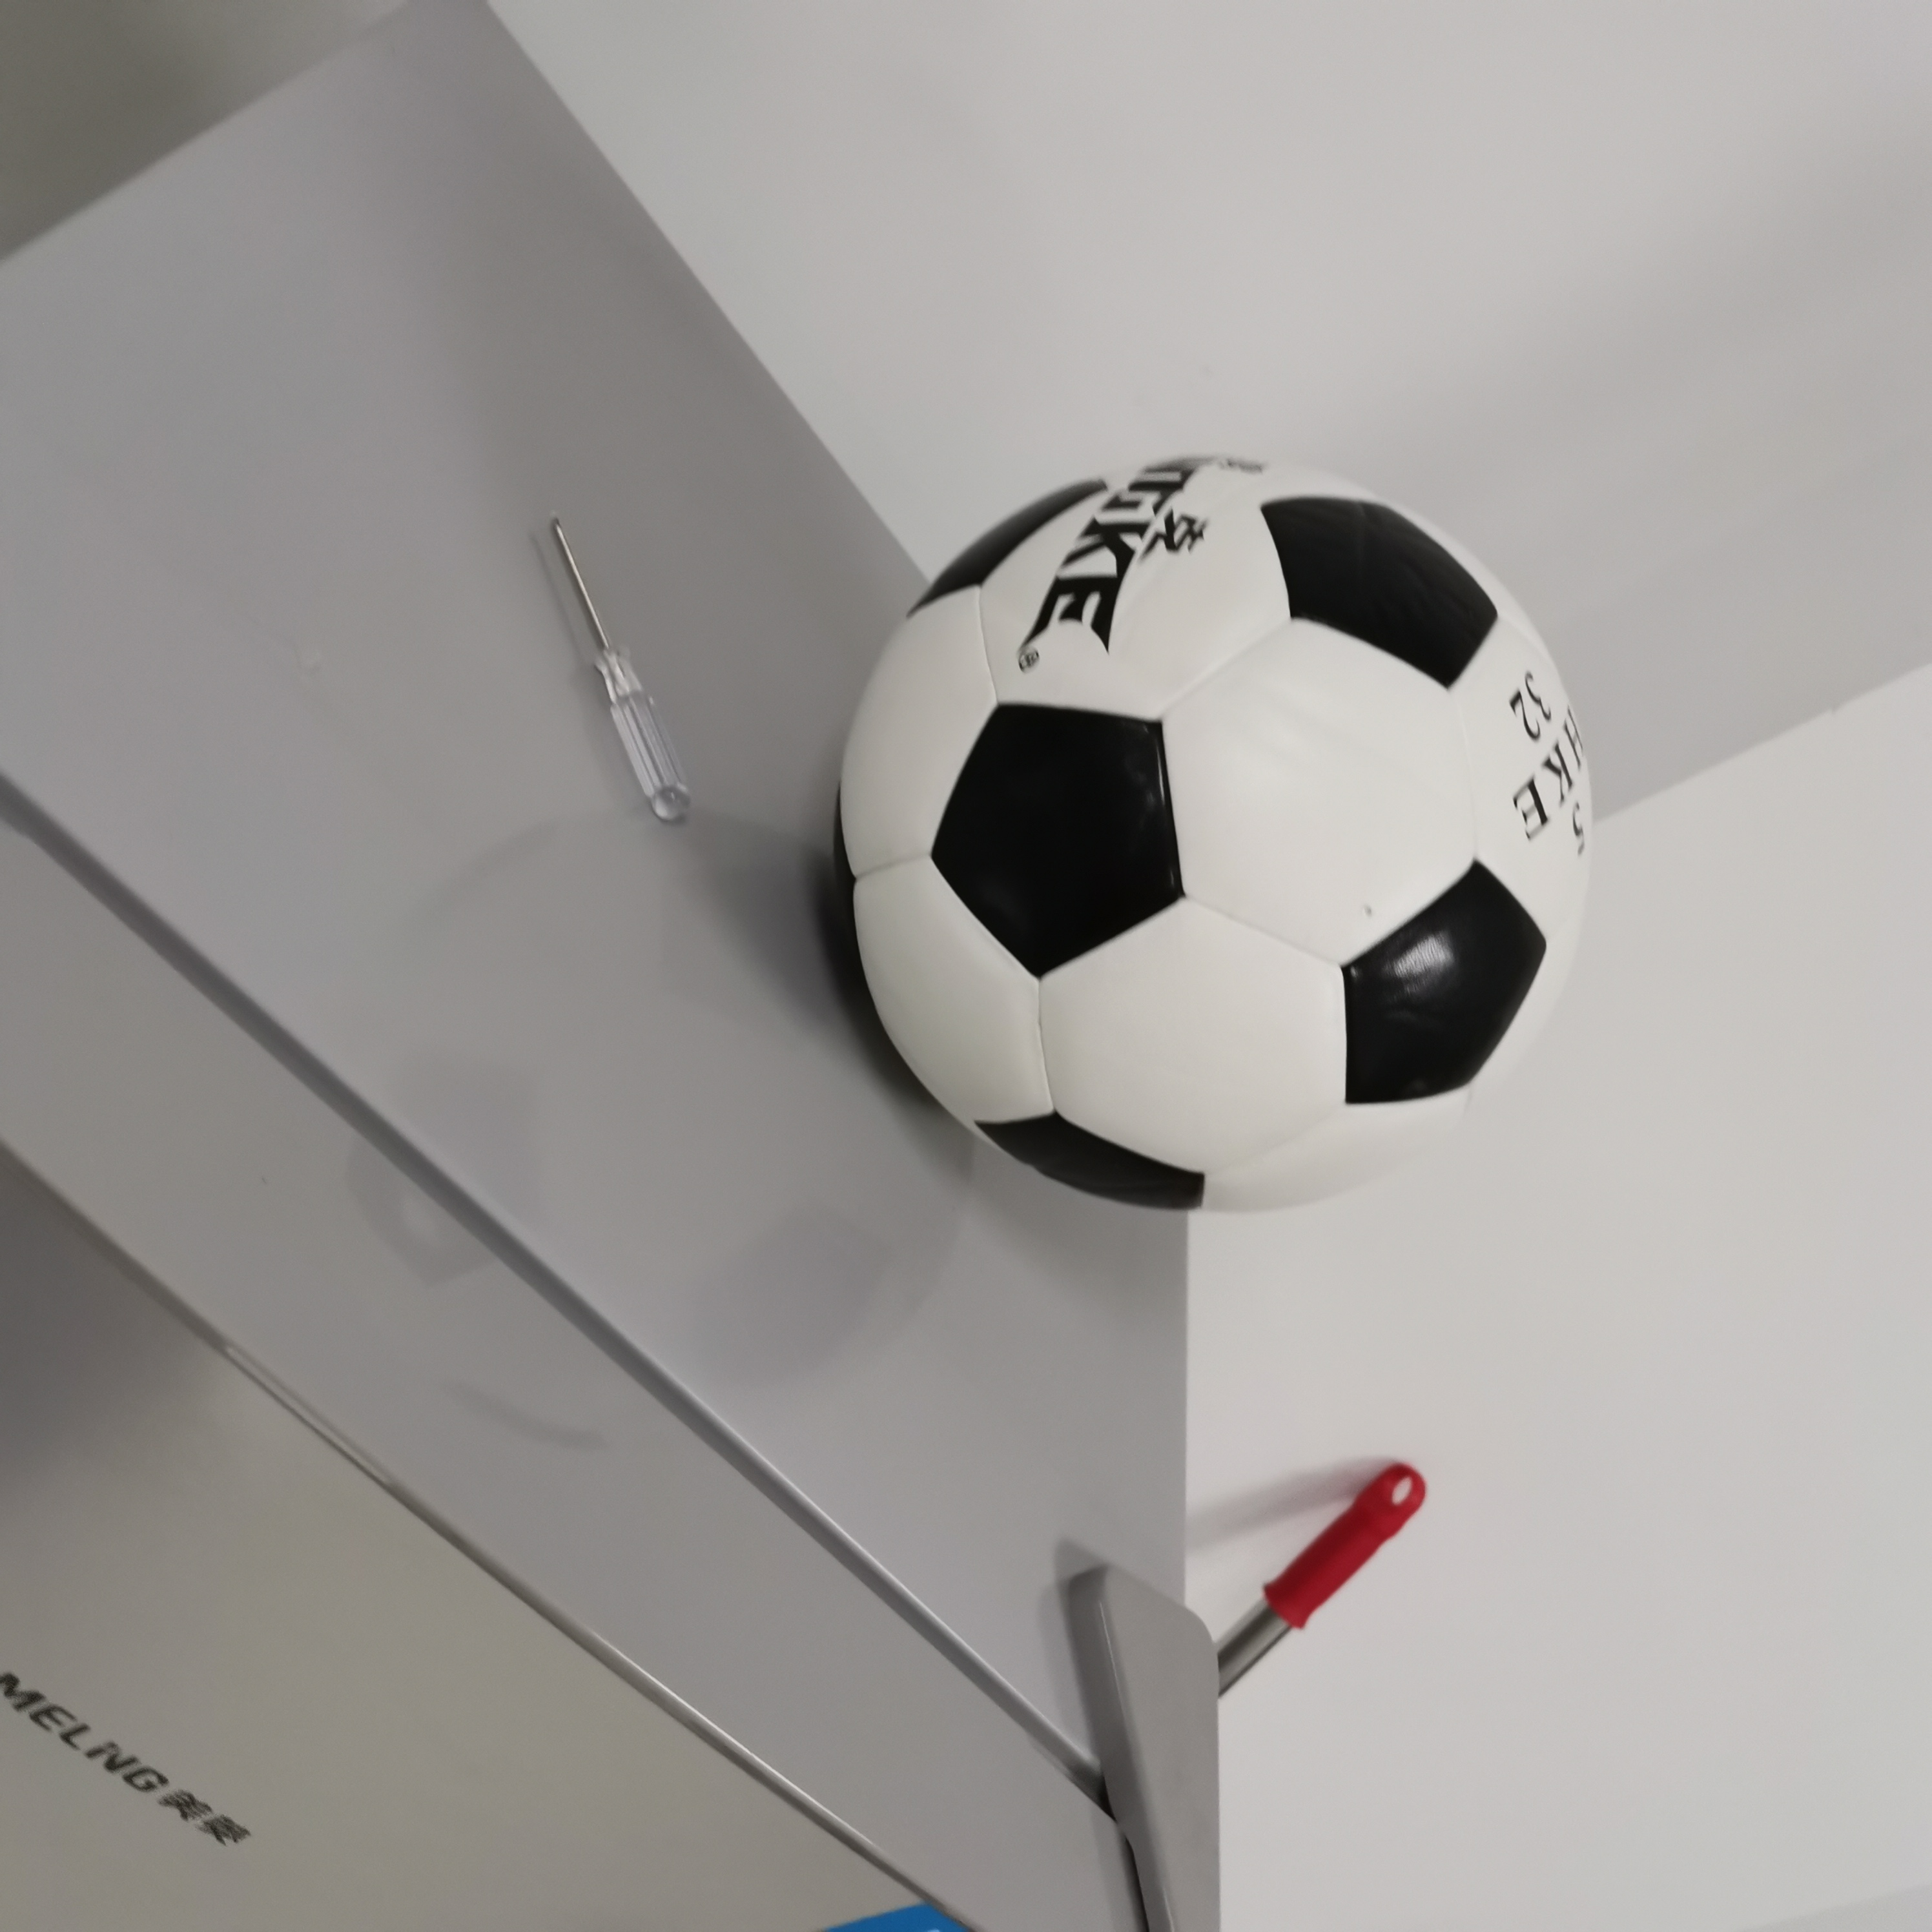football: (840, 460, 1592, 1208)
